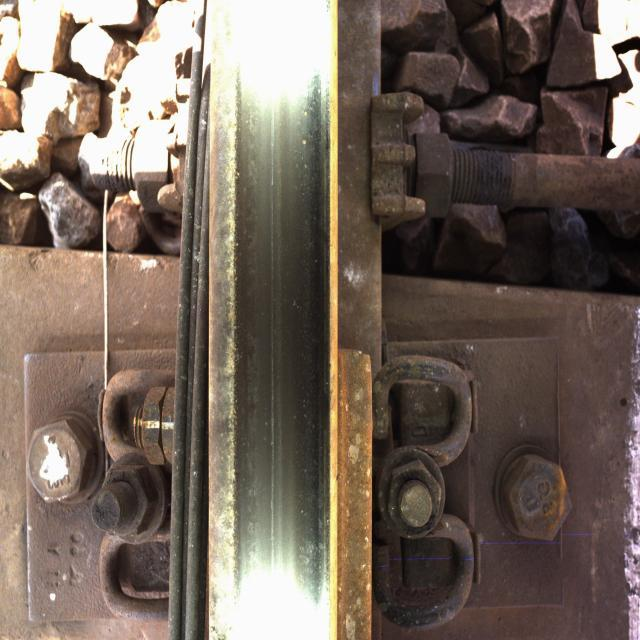normal: (232, 126, 320, 555)
